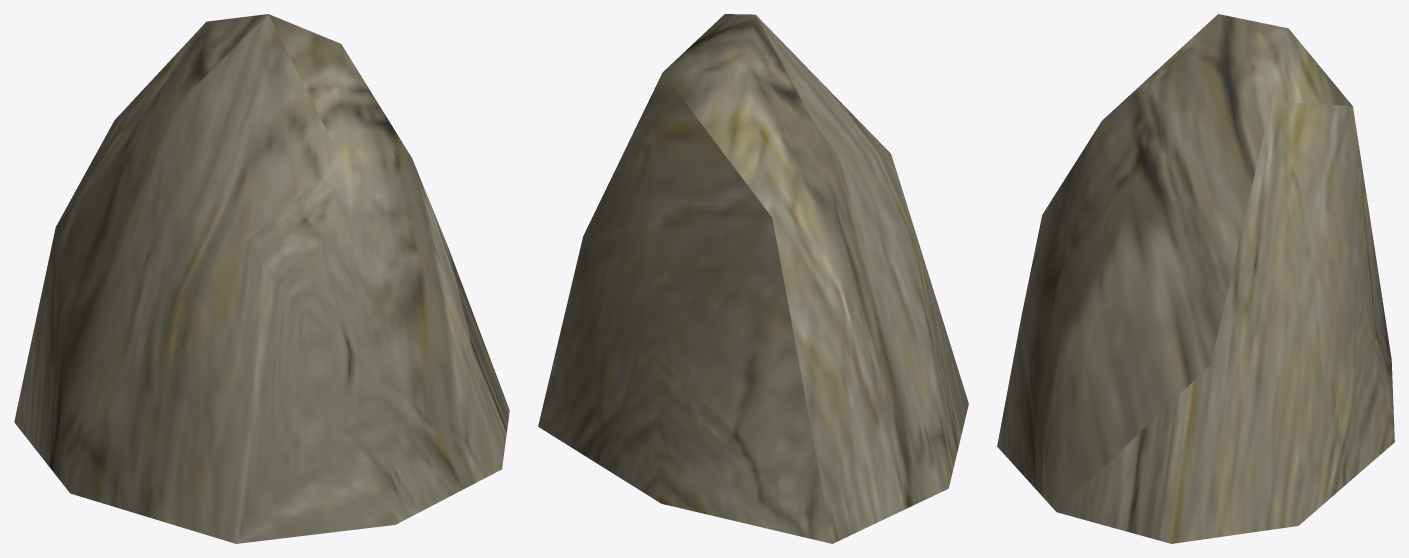
File: stone_granite_med_1.glb
3 renders of one model, left to right at view 1: azimuth 30°, elevation 25°; view 2: azimuth 150°, elevation 25°; view 3: azimuth 270°, elevation 25°, orthographic.
Parts seen in each view (by area): view 1: stone_granite_med_1; view 2: stone_granite_med_1; view 3: stone_granite_med_1.
Part boxes in pixels (box(x1,y1,x2,y2)): stone_granite_med_1: box(14, 14, 509, 543); stone_granite_med_1: box(538, 14, 968, 543); stone_granite_med_1: box(997, 14, 1394, 543).
Size of the model in its own units: 0.5981 by 0.5957 by 0.5048.
Materials: 1 (1 with a texture image).
